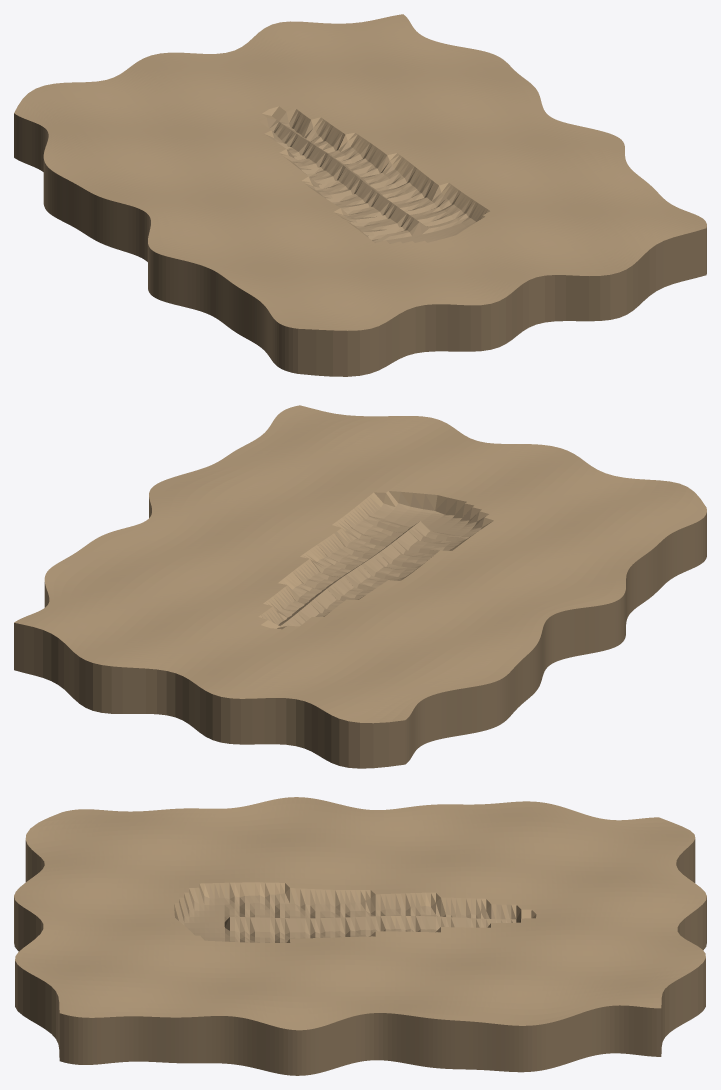
3 views of the same model, one above another, from view 1: azimuth 30°, elevation 25°; view 2: azimuth 150°, elevation 25°; view 3: azimuth 270°, elevation 25° (orthographic). The views are drawn at different scales.
Parts seen in each view (by area): view 1: negative_hyporelief_N14_03_informed_spriggina_impression_int; view 2: negative_hyporelief_N14_03_informed_spriggina_impression_int; view 3: negative_hyporelief_N14_03_informed_spriggina_impression_int.
Part boxes in pixels (x1,y1,x2,y2): negative_hyporelief_N14_03_informed_spriggina_impression_int: (14, 14, 706, 376); negative_hyporelief_N14_03_informed_spriggina_impression_int: (14, 405, 706, 768); negative_hyporelief_N14_03_informed_spriggina_impression_int: (14, 797, 706, 1075).
Size of the model in its own units: 0.0538 by 0.00532 by 0.0679.
